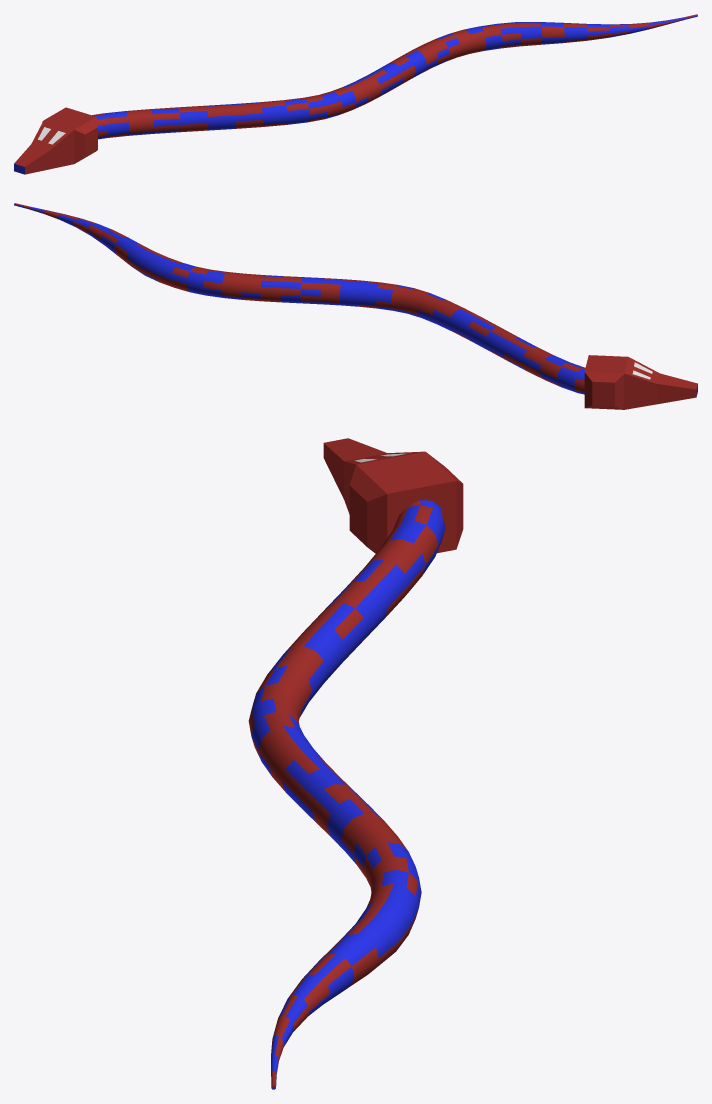
The model's file is serpent.fbx.
The picture shows the model from 3 angles, top to bottom: view 1: azimuth 30°, elevation 25°; view 2: azimuth 150°, elevation 25°; view 3: azimuth 270°, elevation 25°; orthographic projection. The views are drawn at different scales.
Parts seen in each view (by area): view 1: serpent; view 2: serpent; view 3: serpent.
Part boxes in pixels (box(x1,y1,x2,y2)): serpent: box(14, 14, 697, 174); serpent: box(14, 203, 697, 409); serpent: box(248, 438, 463, 1089).
Size of the model in its own units: 1224 by 60.49 by 171.
